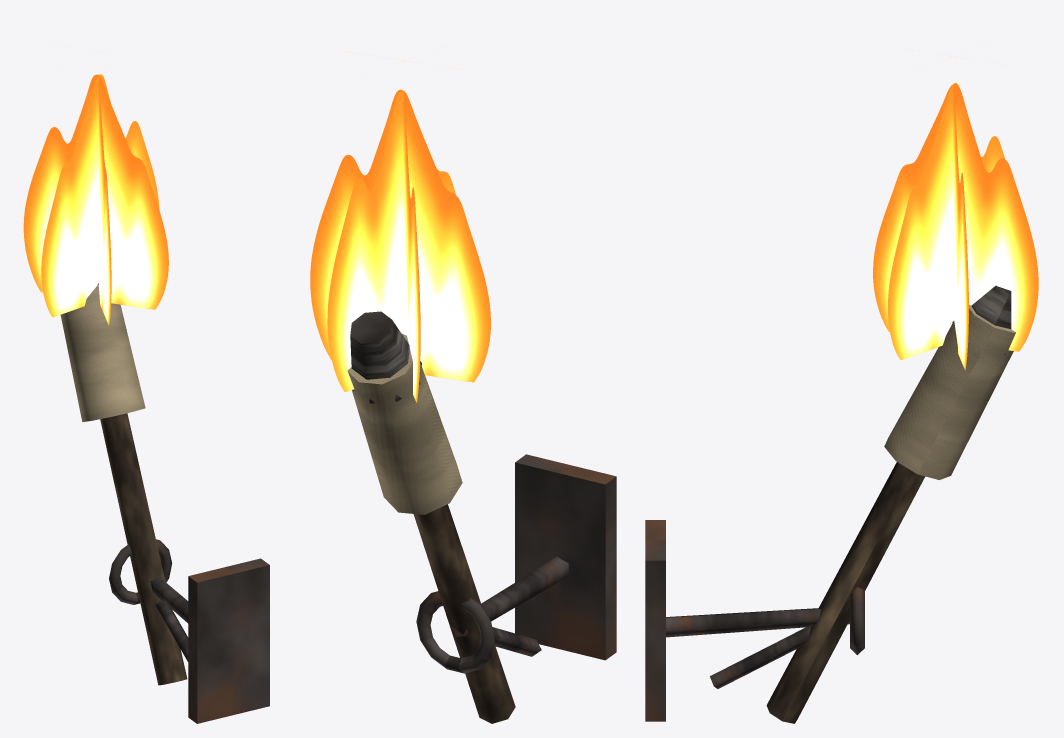
The model's file is torcia_a_muro.gltf.
The picture shows the model from 3 angles, left to right: view 1: azimuth 30°, elevation 25°; view 2: azimuth 150°, elevation 25°; view 3: azimuth 270°, elevation 25°; orthographic projection. The views are drawn at different scales.
Visible parts, largest first — view 1: torcia_a_muro; view 2: torcia_a_muro; view 3: torcia_a_muro.
Part boxes in pixels (<box>): torcia_a_muro: <box>23,51,269,723</box>; torcia_a_muro: <box>310,51,616,723</box>; torcia_a_muro: <box>645,49,1038,723</box>.
Bounding box in the file's own units: 0.2954 × 1.07 × 0.591.
5 materials, 5 textured.
